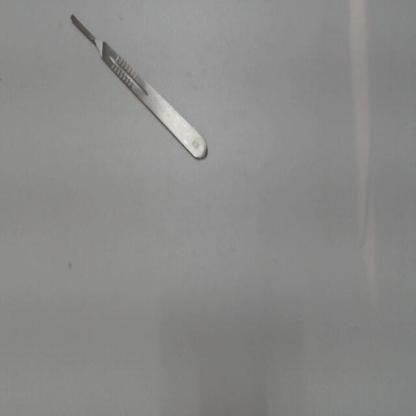No.4 BP Handle: (57, 5, 221, 182)
